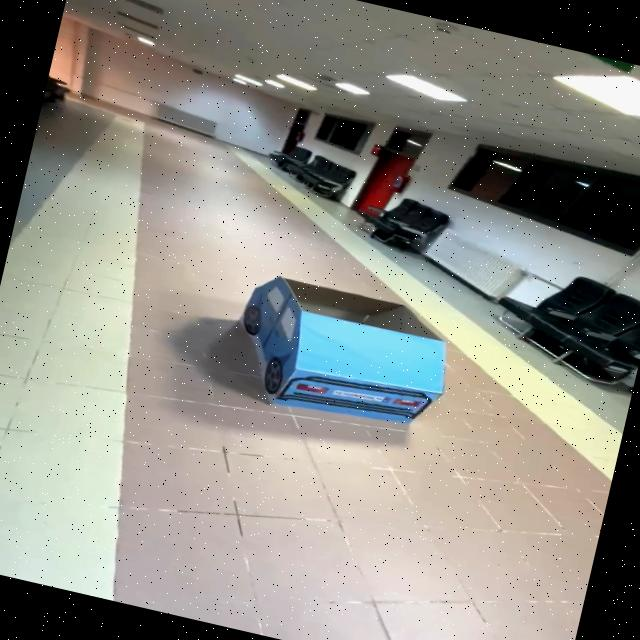blue_car: (200, 244, 470, 466)
